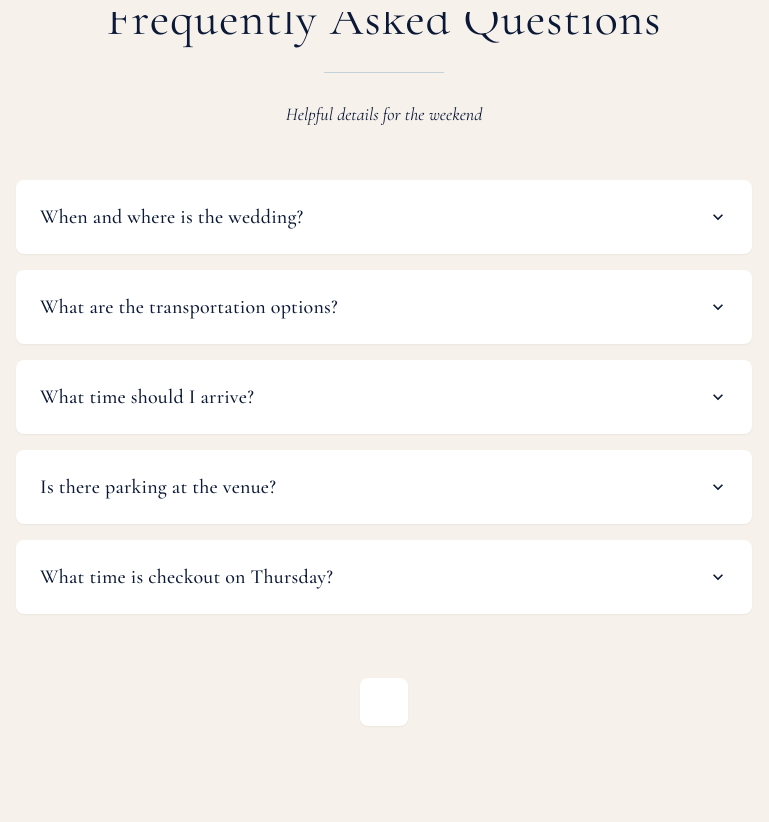
Test: FaqSection › renders dedicated Thursday checkout guidance
(page scrolled)
Click the button "What time is checkout on Thursday?".
click(186, 577)  # box [16,540,752,614]
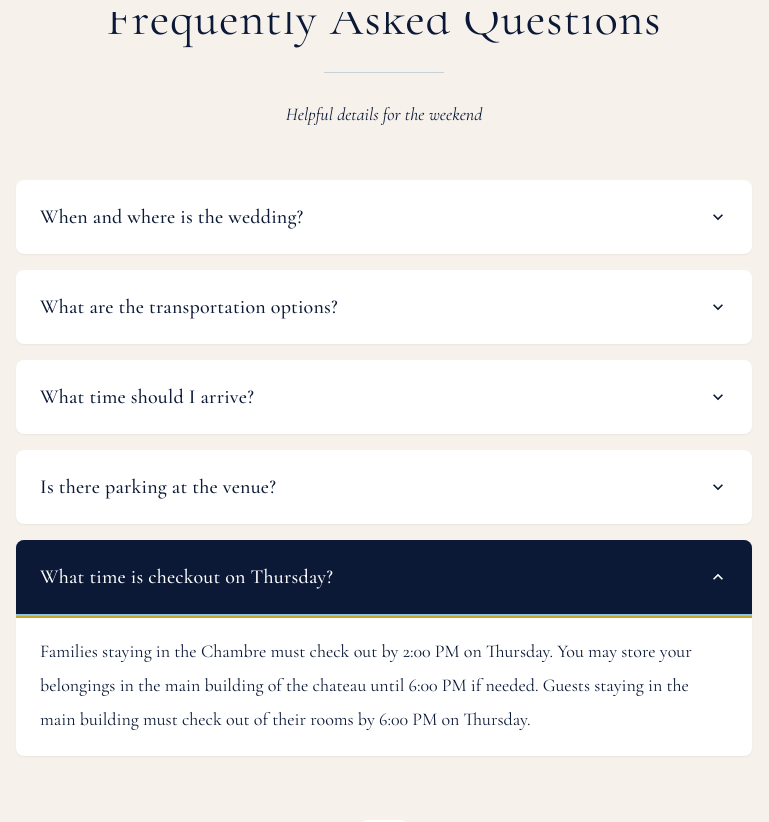
expect the text "main building must check out of their rooms by 6:00 PM" is shown: met, box [40,640,692,730]
